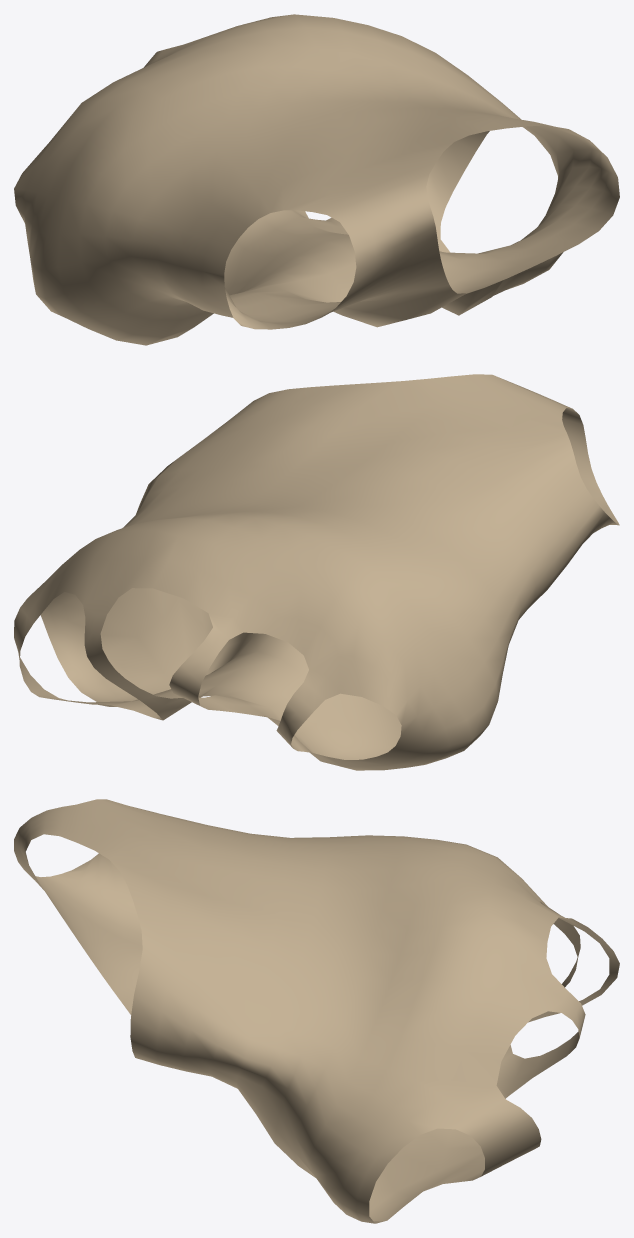
3 renders of one model, top to bottom at view 1: azimuth 30°, elevation 25°; view 2: azimuth 150°, elevation 25°; view 3: azimuth 270°, elevation 25°, orthographic. The views are drawn at different scales.
Visible parts, largest first — view 1: 左侧桡腕关节囊; view 2: 左侧桡腕关节囊; view 3: 左侧桡腕关节囊.
Boxes of the visible parts, <box> form: 左侧桡腕关节囊: <box>14,14,619,345</box>; 左侧桡腕关节囊: <box>14,374,619,770</box>; 左侧桡腕关节囊: <box>14,799,619,1223</box>.
Bounding box in the file's own units: 0.0809 × 0.0446 × 0.0901.
